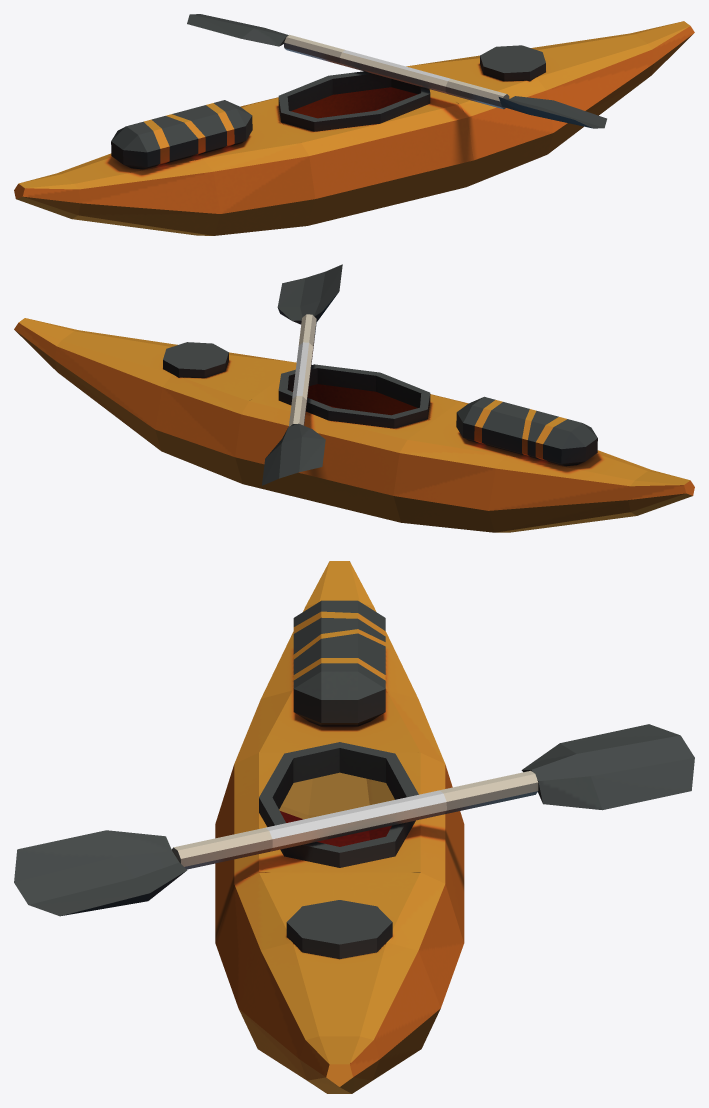
Rendered from PUSHILIN_Kayak.gltf.
3 renders of one model, top to bottom at view 1: azimuth 30°, elevation 25°; view 2: azimuth 150°, elevation 25°; view 3: azimuth 270°, elevation 25°, orthographic. The views are drawn at different scales.
Visible parts, largest first — view 1: node-0; view 2: node-0; view 3: node-0.
Boxes of the visible parts, x1,y1,x2,y2 form: node-0: (14, 14, 694, 235); node-0: (14, 264, 694, 532); node-0: (14, 561, 694, 1093).
Bounding box in the file's own units: 3.94 × 0.7054 × 2.22.
Materials: 1 (1 with a texture image).
